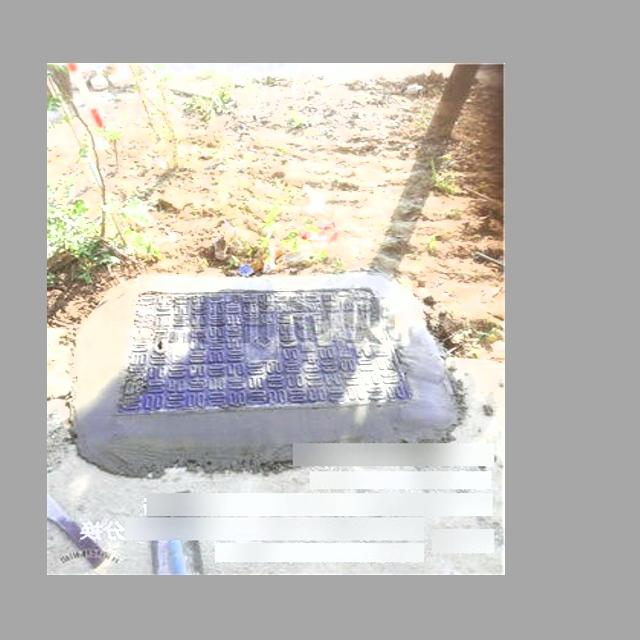good: (113, 283, 415, 411)
